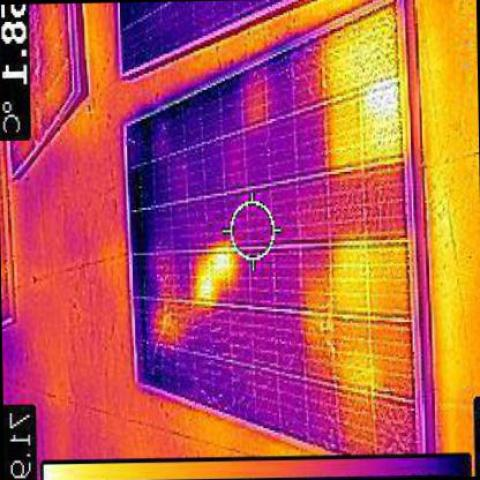fault: (354, 57, 400, 124), (188, 251, 241, 296)
